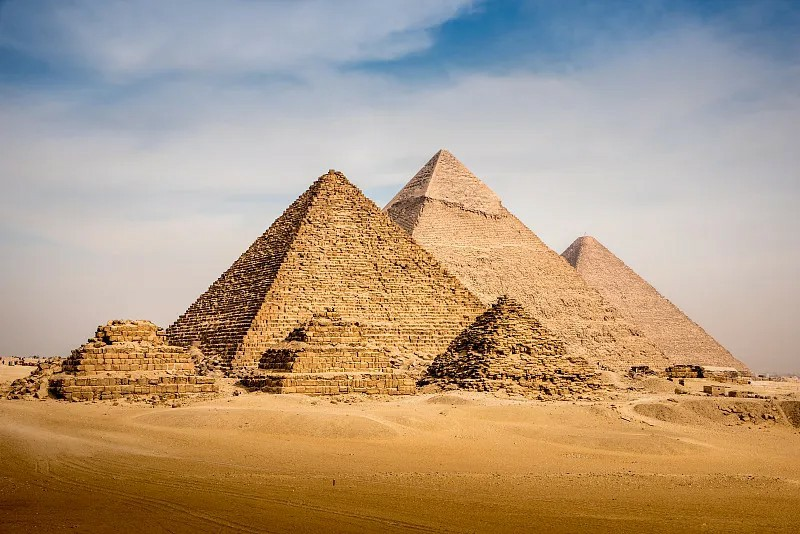Pyramid: (164, 170, 486, 379), (381, 148, 678, 373), (562, 235, 751, 376), (423, 296, 599, 393), (238, 311, 420, 397), (46, 318, 222, 403)
